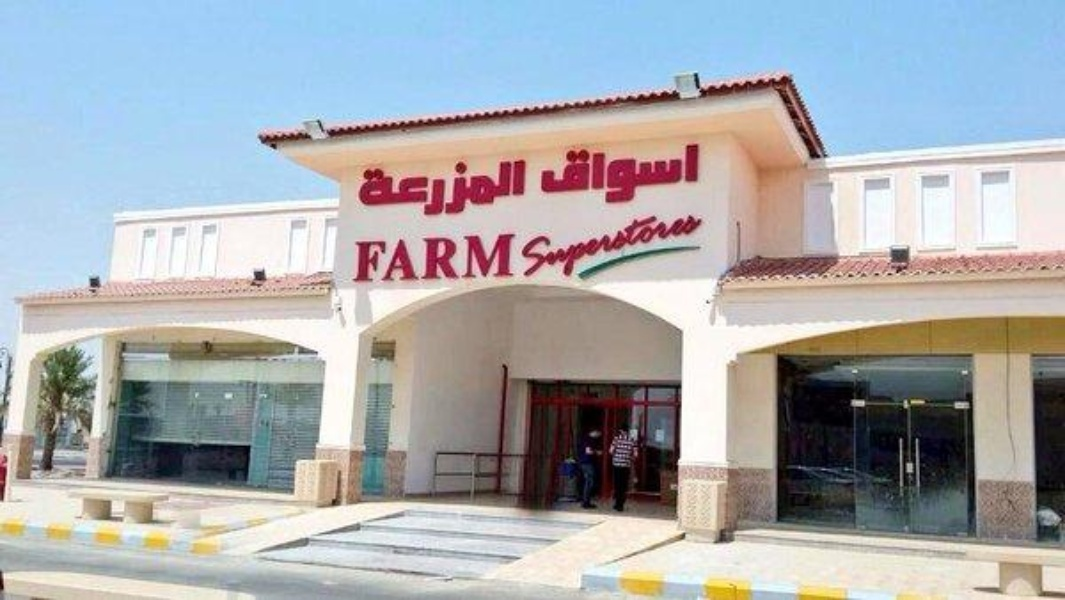text: (529, 205, 544, 283), (545, 205, 560, 283), (561, 205, 576, 283), (577, 205, 592, 283), (593, 205, 608, 283), (609, 205, 624, 283), (625, 205, 640, 283), (641, 205, 656, 283), (657, 205, 672, 283), (673, 205, 688, 283), (689, 205, 704, 283), (705, 205, 718, 283), (545, 141, 560, 206), (561, 141, 576, 206), (577, 141, 592, 206), (593, 141, 608, 206), (609, 141, 624, 206), (625, 141, 640, 206), (641, 141, 656, 206), (657, 141, 672, 206), (673, 141, 688, 206), (369, 157, 384, 217), (385, 157, 400, 217), (401, 157, 416, 217), (417, 157, 432, 217), (433, 157, 448, 217), (449, 157, 464, 217), (465, 157, 480, 217), (481, 157, 496, 217), (497, 157, 512, 217), (513, 157, 528, 217), (689, 141, 702, 206), (353, 231, 368, 283), (369, 231, 384, 283), (385, 231, 400, 283), (401, 231, 416, 283), (417, 231, 432, 283), (433, 231, 448, 283), (449, 231, 464, 283), (465, 231, 480, 283), (481, 231, 496, 283), (497, 231, 512, 283), (357, 157, 368, 217), (521, 205, 528, 283), (540, 141, 544, 206), (513, 231, 515, 283)
